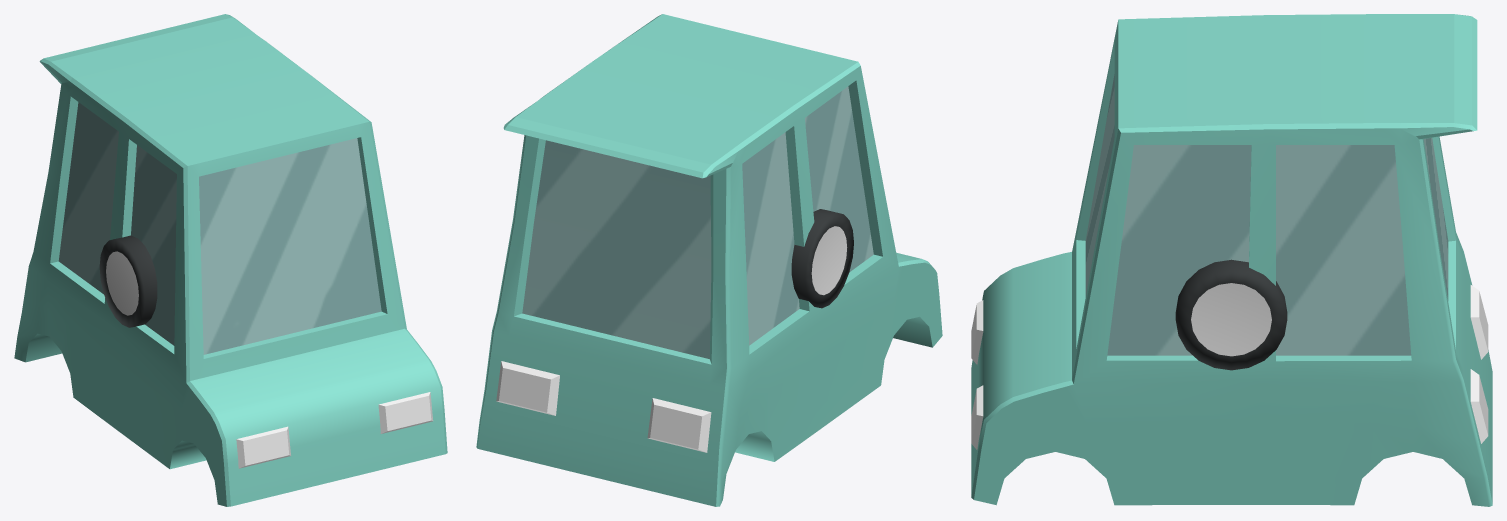
File: car_6_T.fbx
3 views of the same model, side by side, from view 1: azimuth 30°, elevation 25°; view 2: azimuth 150°, elevation 25°; view 3: azimuth 270°, elevation 25° (orthographic). The views are drawn at different scales.
Parts seen in each view (by area): view 1: car_6_chasis_T, car_6_right_wheel_T, car_6_back_wheel_T; view 2: car_6_chasis_T, car_6_right_wheel_T; view 3: car_6_chasis_T, car_6_back_wheel_T, car_6_left_wheel_T.
Part boxes in pixels (left/top/right/bottom): car_6_chasis_T: left=14, top=14, right=447, bottom=506; car_6_right_wheel_T: left=99, top=235, right=157, bottom=327; car_6_back_wheel_T: left=113, top=239, right=157, bottom=326; car_6_chasis_T: left=476, top=14, right=942, bottom=506; car_6_right_wheel_T: left=791, top=209, right=853, bottom=308; car_6_chasis_T: left=971, top=14, right=1492, bottom=506; car_6_back_wheel_T: left=1175, top=261, right=1287, bottom=370; car_6_left_wheel_T: left=1175, top=259, right=1287, bottom=315.
Size of the model in its own units: 98.97 by 126 by 161.
